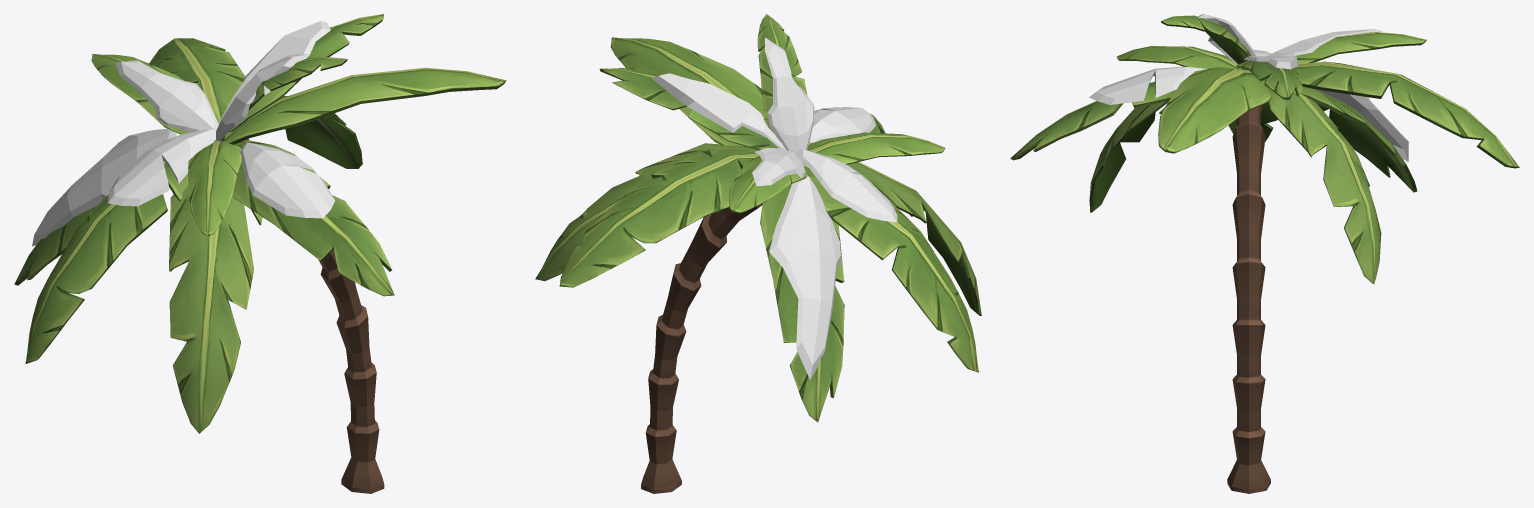
File: yazasu3_snow.FBX
3 renders of one model, left to right at view 1: azimuth 30°, elevation 25°; view 2: azimuth 150°, elevation 25°; view 3: azimuth 270°, elevation 25°, orthographic. The views are drawn at different scales.
Visible parts, largest first — view 1: Plane095, Object020; view 2: Plane095, Object020; view 3: Plane095, Object020.
Part boxes in pixels (x1=…): Plane095: x1=14, y1=14, x2=506, y2=493; Object020: x1=32, y1=21, x2=335, y2=246; Plane095: x1=535, y1=14, x2=981, y2=493; Object020: x1=652, y1=37, x2=897, y2=379; Plane095: x1=1010, y1=15, x2=1519, y2=493; Object020: x1=1089, y1=14, x2=1408, y2=161.
Bounding box in the file's own units: 136 × 143 × 151.
